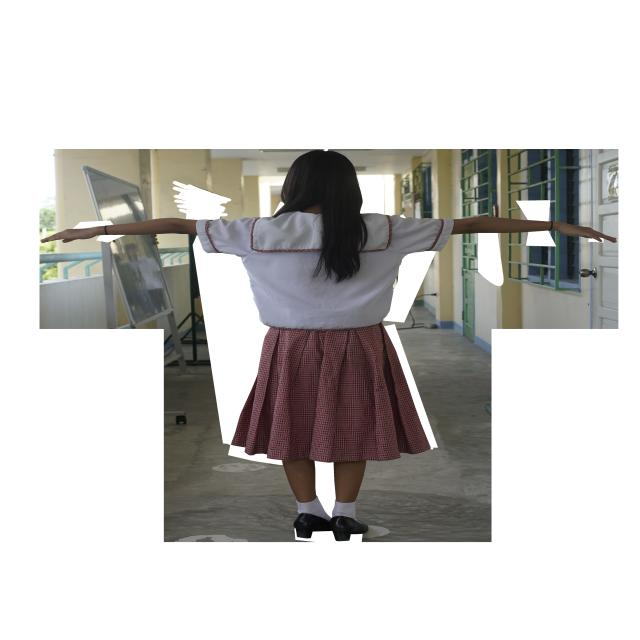pologirl: (197, 211, 452, 330)
shoes: (294, 513, 368, 541)
skirt: (232, 324, 430, 463)
